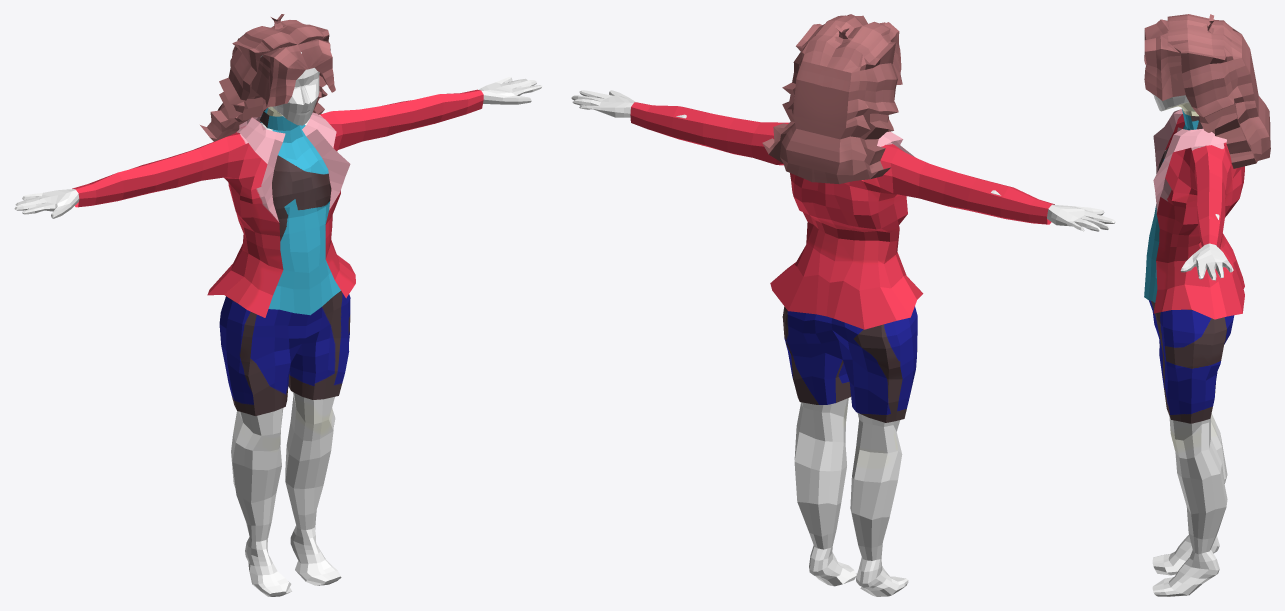
3 views of the same model, side by side, from view 1: azimuth 30°, elevation 25°; view 2: azimuth 150°, elevation 25°; view 3: azimuth 270°, elevation 25° (orthographic). The views are drawn at different scales.
Visible parts, largest first — view 1: Jacke, Body, Hose, Shirt, Haare; view 2: Jacke, Body, Haare, Hose; view 3: Jacke, Haare, Body, Hose, Shirt.
Part boxes in pixels (x1,y1,x2,y2): Jacke: (72, 89, 483, 317); Body: (14, 52, 542, 596); Hose: (219, 291, 350, 415); Shirt: (260, 108, 340, 315); Haare: (200, 14, 335, 141); Jacke: (630, 102, 1054, 329); Body: (571, 90, 1115, 596); Haare: (762, 14, 902, 184); Hose: (782, 306, 917, 422); Jacke: (1153, 109, 1244, 319); Haare: (1144, 14, 1270, 168); Body: (1151, 27, 1233, 596); Hose: (1149, 300, 1234, 423); Shirt: (1144, 109, 1202, 310).
Size of the model in its own units: 319 by 325 by 66.12.
5 materials, 5 textured.
